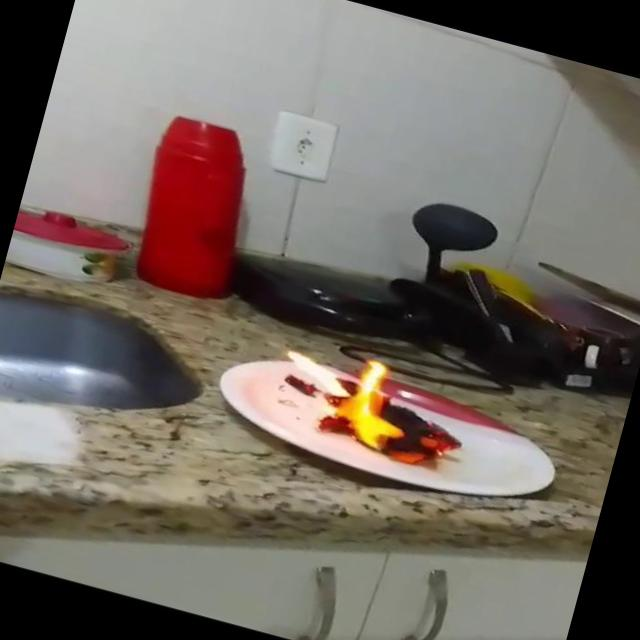Fire: (309, 342, 481, 480)
